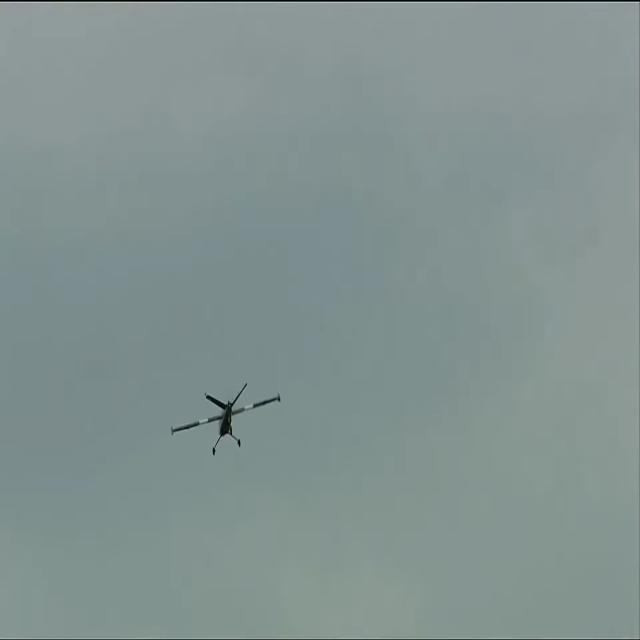iha: (200, 415, 251, 422)
